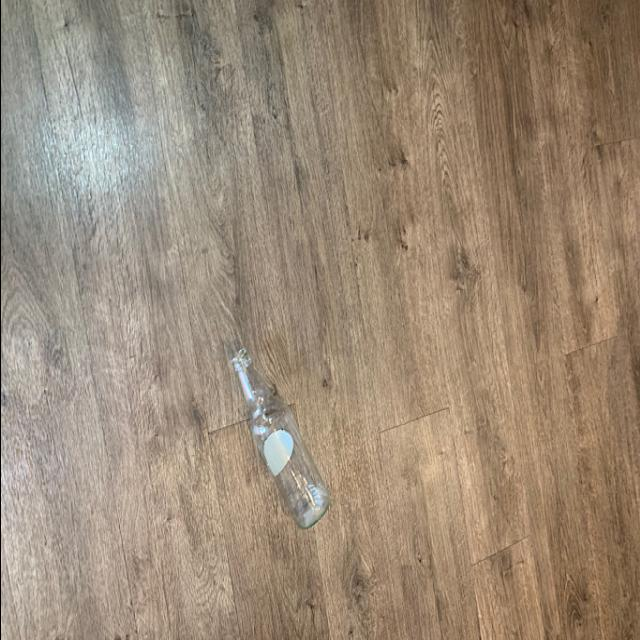Glass Bottle: (225, 346, 332, 536)
